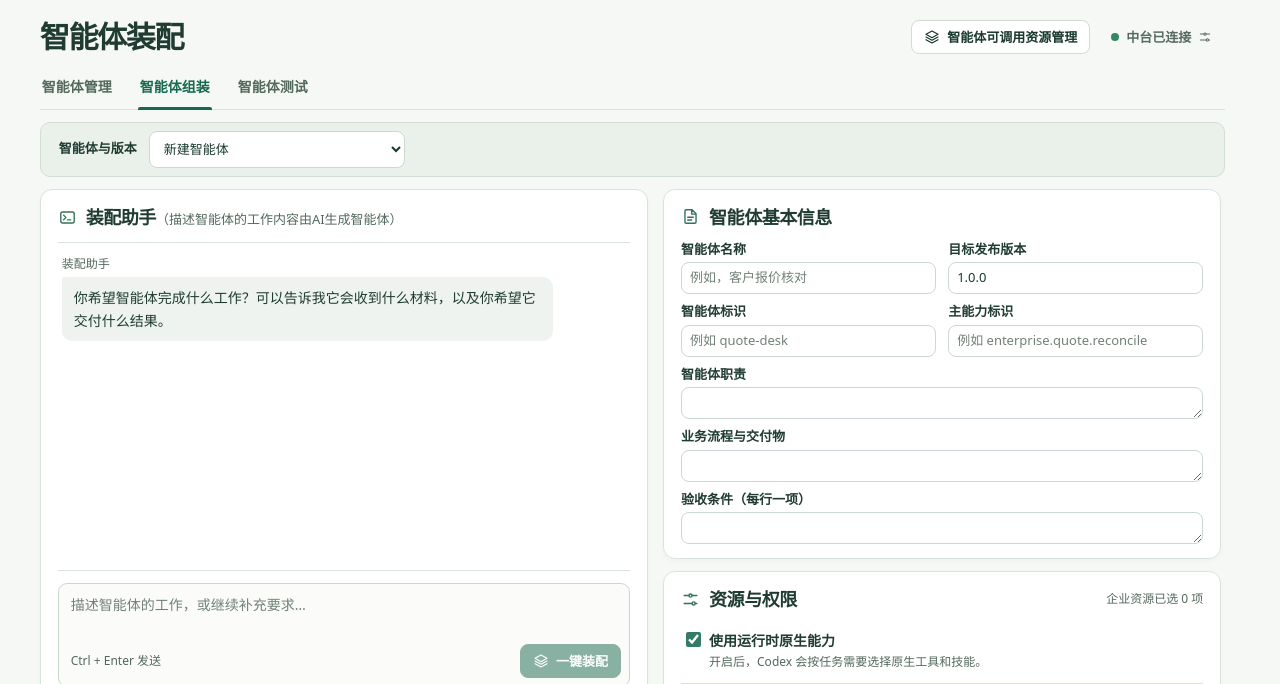
Test case: preserves a first turn after a lost response and reconciles server acceptance (true)
Expected: the heading "装配助手（描述智能体的工作内容由AI生成智能体）" is shown, [86,204,403,230]
Expected: the checkbox labelled "使用运行时原生能力" is checked, [686,632,701,647]
Click the tab "智能体测试" at (273, 88), box [236,68,310,109]
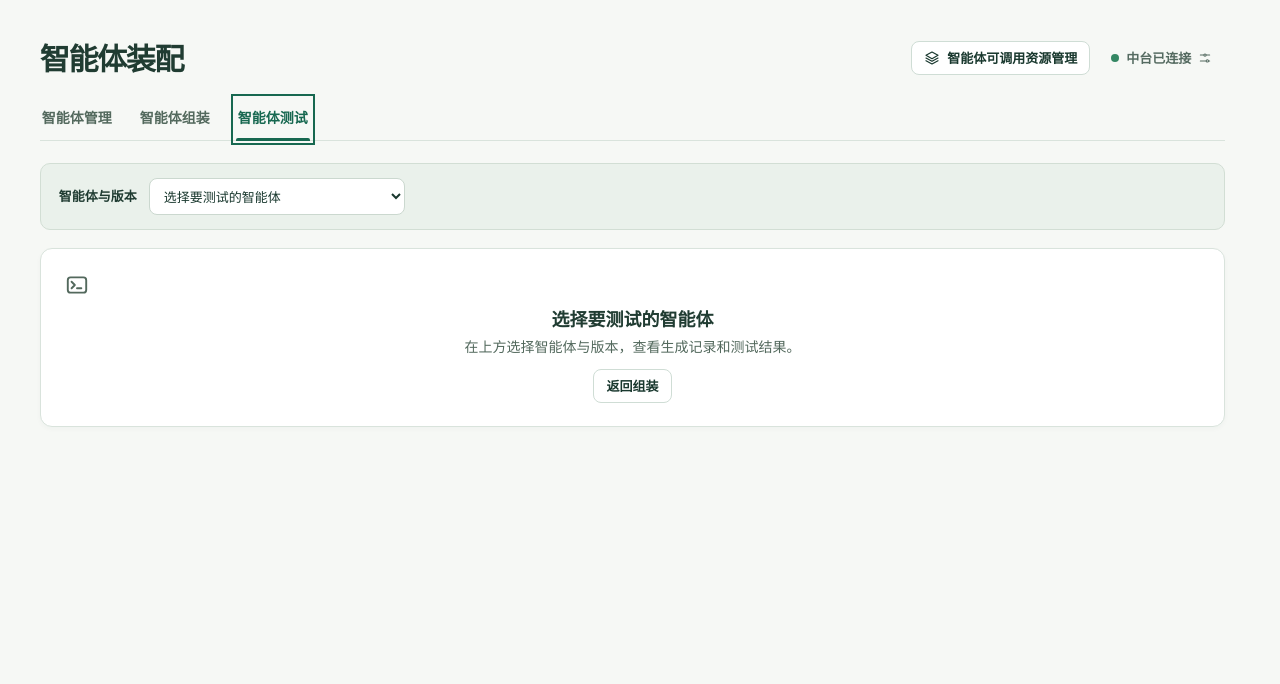
Click the tab "智能体组装" at (175, 120), box [138,99,212,140]
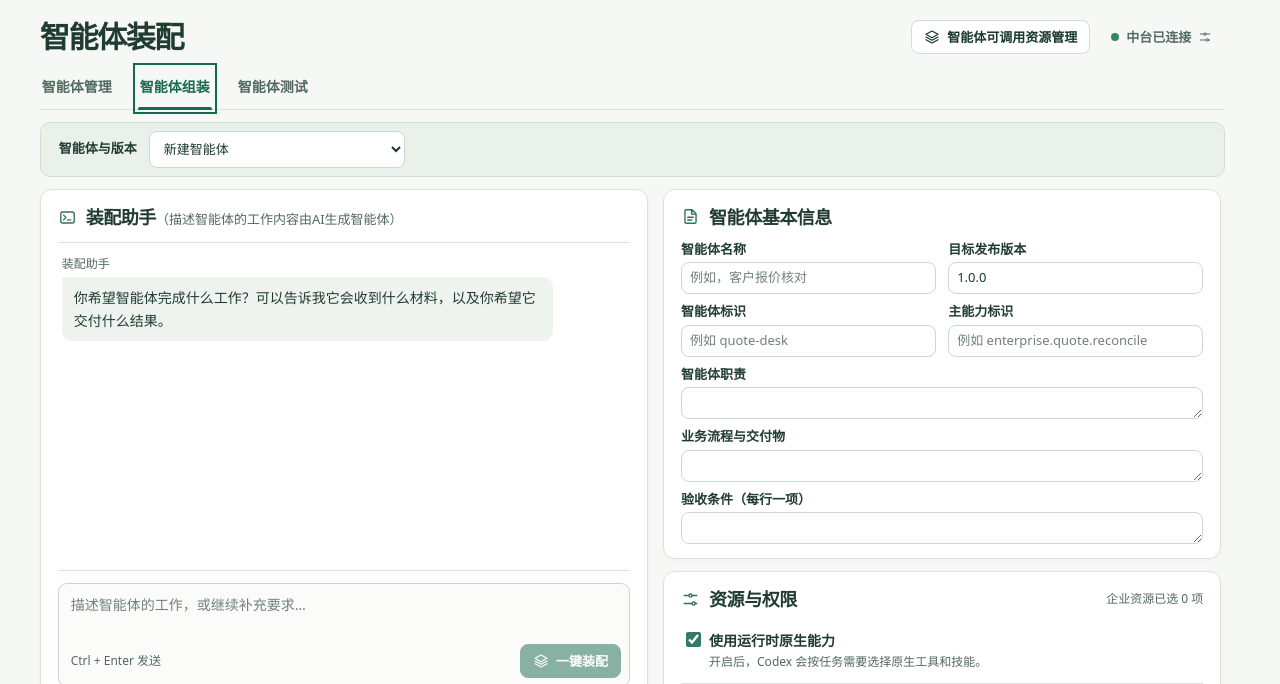
Now the checkbox labelled "使用运行时原生能力" is checked, box [686,632,701,647]
Type "周报员" into the field labelled "智能体名称" at (809, 278), box [681,262,936,294]
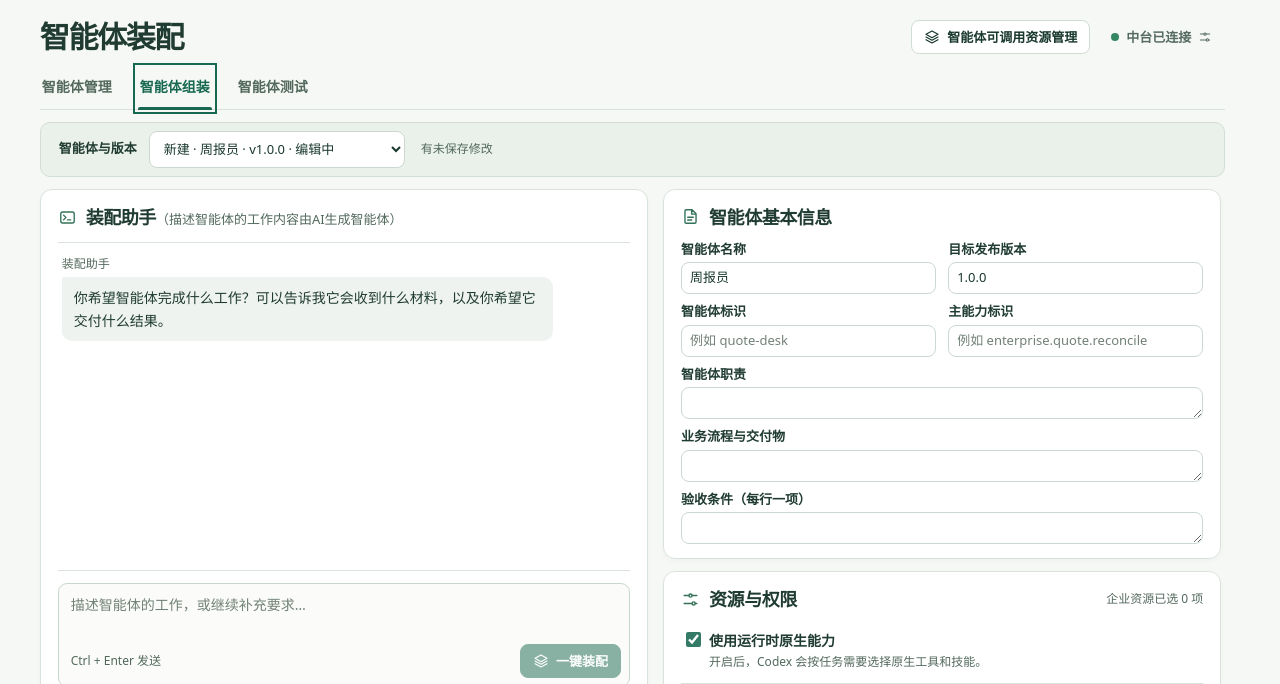
Now the button "一键装配" is disabled, box [520,644,621,678]
Type "归纳每周订单" into the text box named "给装配助手的消息" at (344, 615), box [67,592,621,638]
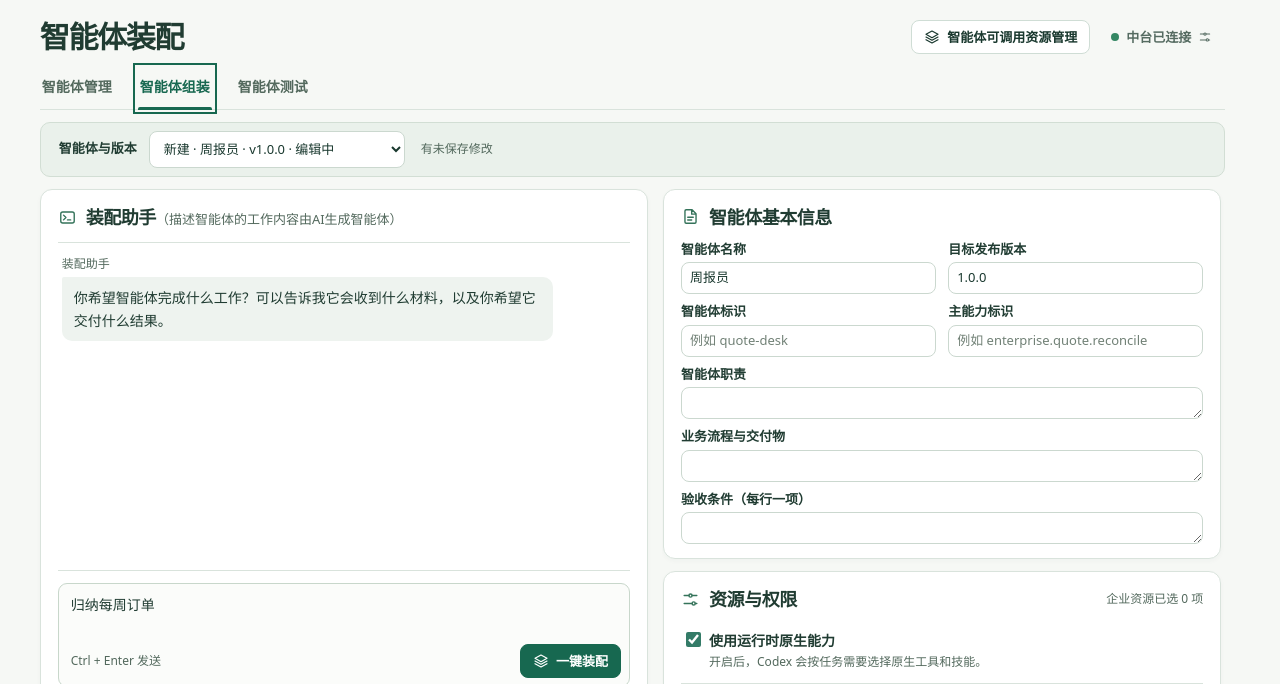
Click the button "一键装配" at (570, 661), box [520,644,621,678]
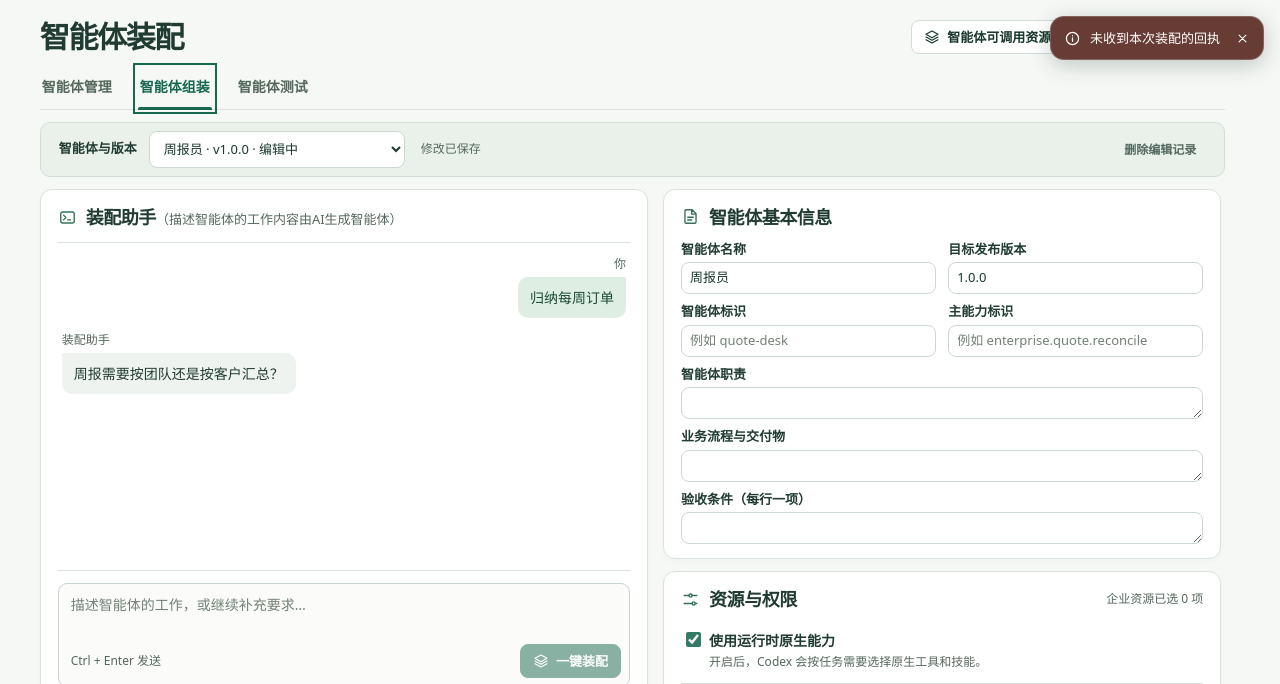
Now the dropdown labelled "智能体与版本" shows "周报员 · v1.0.0 · 编辑中", box [149,131,405,168]
Now the message reads "未收到本次装配的回执", box [1090,29,1220,47]
Now the text "周报需要按团队还是按客户汇总？" is shown, box [62,353,296,394]
